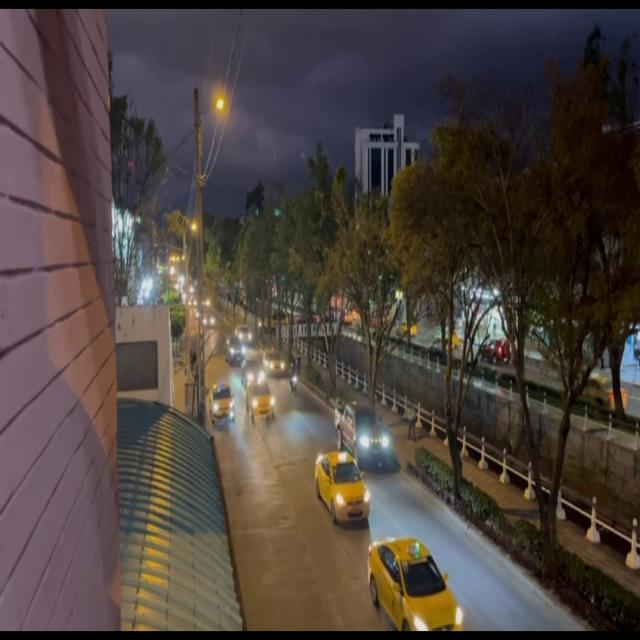CMT: (338, 402, 389, 459)
MOTORCYCLE: (288, 370, 300, 400)
SED: (369, 534, 463, 630), (315, 450, 371, 526), (208, 379, 235, 425)
